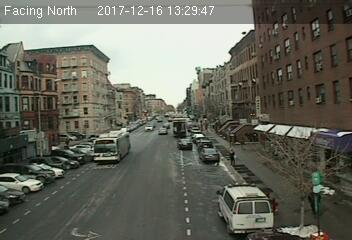bus: (92, 131, 133, 163)
car: (200, 148, 218, 163), (176, 138, 193, 150)
police: (217, 179, 274, 233)
